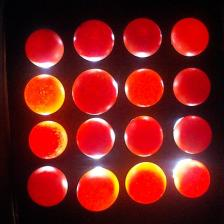fertile: (72, 68, 118, 115), (72, 19, 116, 62), (26, 165, 68, 207), (25, 27, 64, 69), (122, 18, 162, 58), (76, 118, 115, 158), (174, 115, 212, 154), (173, 68, 211, 106)
infertile: (76, 167, 120, 212), (125, 162, 167, 204), (24, 74, 65, 115), (124, 115, 164, 157), (170, 17, 210, 57), (124, 68, 164, 108), (28, 121, 68, 160), (173, 158, 210, 198)
